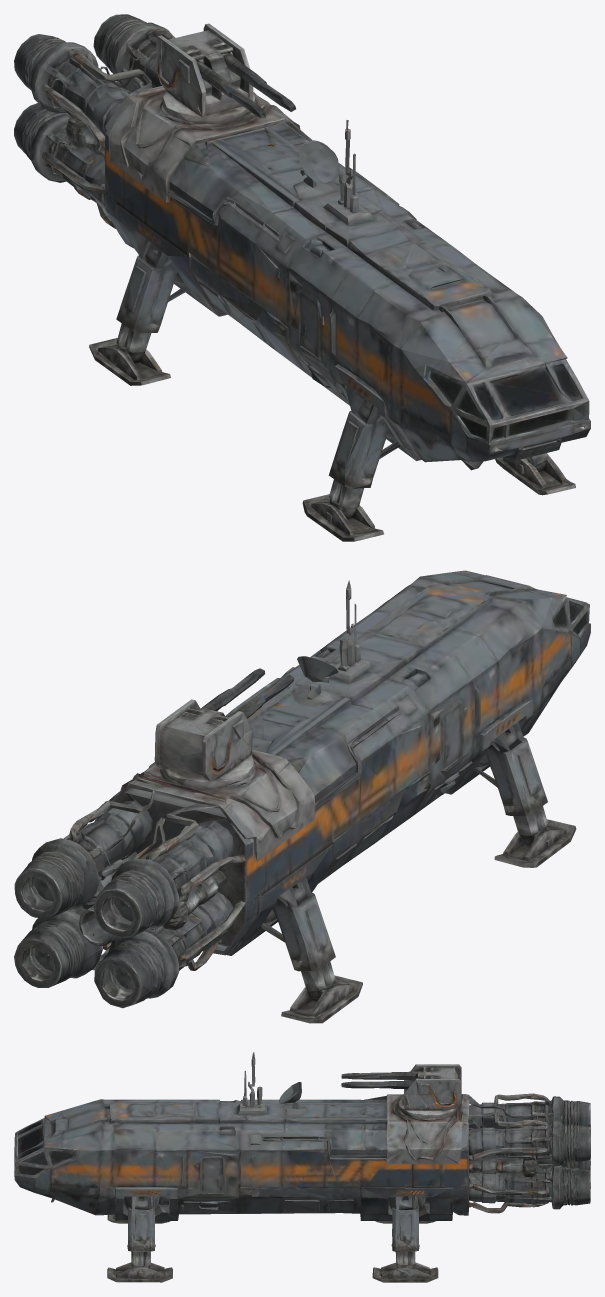
The model's file is surveyor.glb.
The picture shows the model from 3 angles, top to bottom: view 1: azimuth 30°, elevation 25°; view 2: azimuth 150°, elevation 25°; view 3: azimuth 270°, elevation 25°; orthographic projection. The views are drawn at different scales.
Parts seen in each view (by area): view 1: Mesh_0; view 2: Mesh_0; view 3: Mesh_0.
Part boxes in pixels (left/top/right/bottom): Mesh_0: left=14, top=14, right=590, bottom=541; Mesh_0: left=14, top=570, right=590, bottom=1023; Mesh_0: left=14, top=1052, right=590, bottom=1282.
Bounding box in the file's own units: 6.83 × 8.98 × 24.
1 material, 1 textured.
